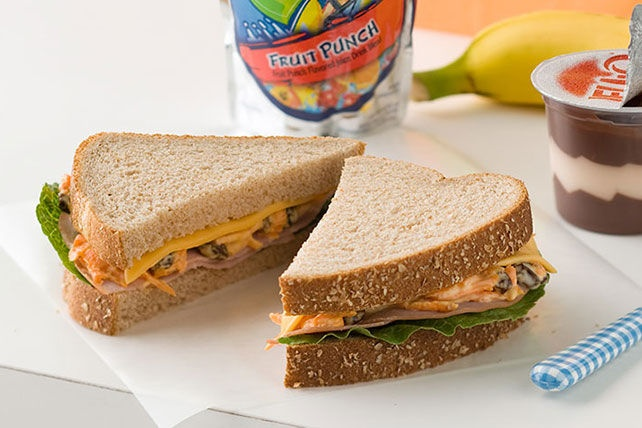background: (34, 87, 559, 259), (232, 5, 642, 155)
